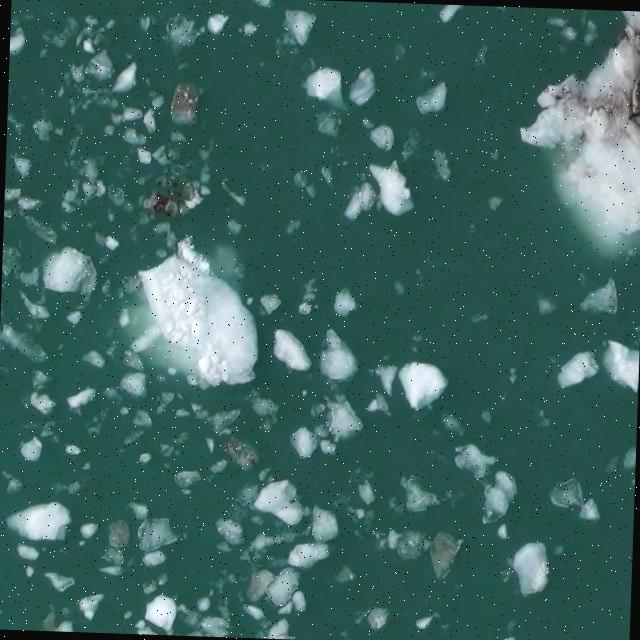seal: (630, 72, 640, 126)
